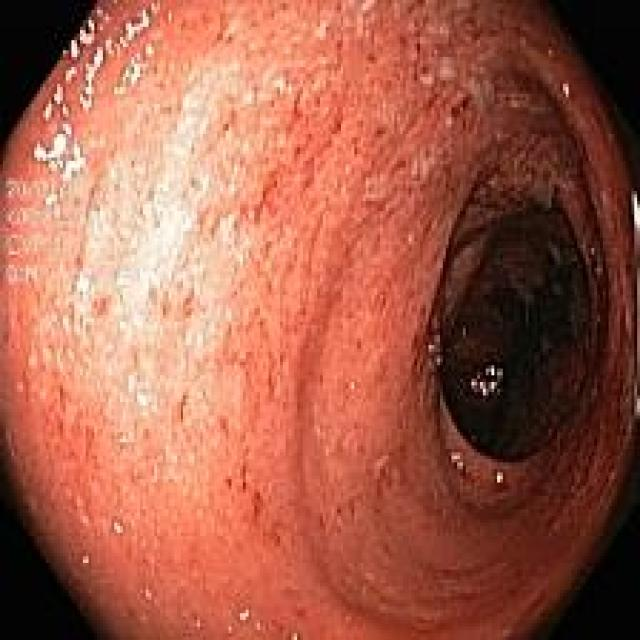ulcerative-colitis-grade-2-3: (2, 3, 631, 639)
